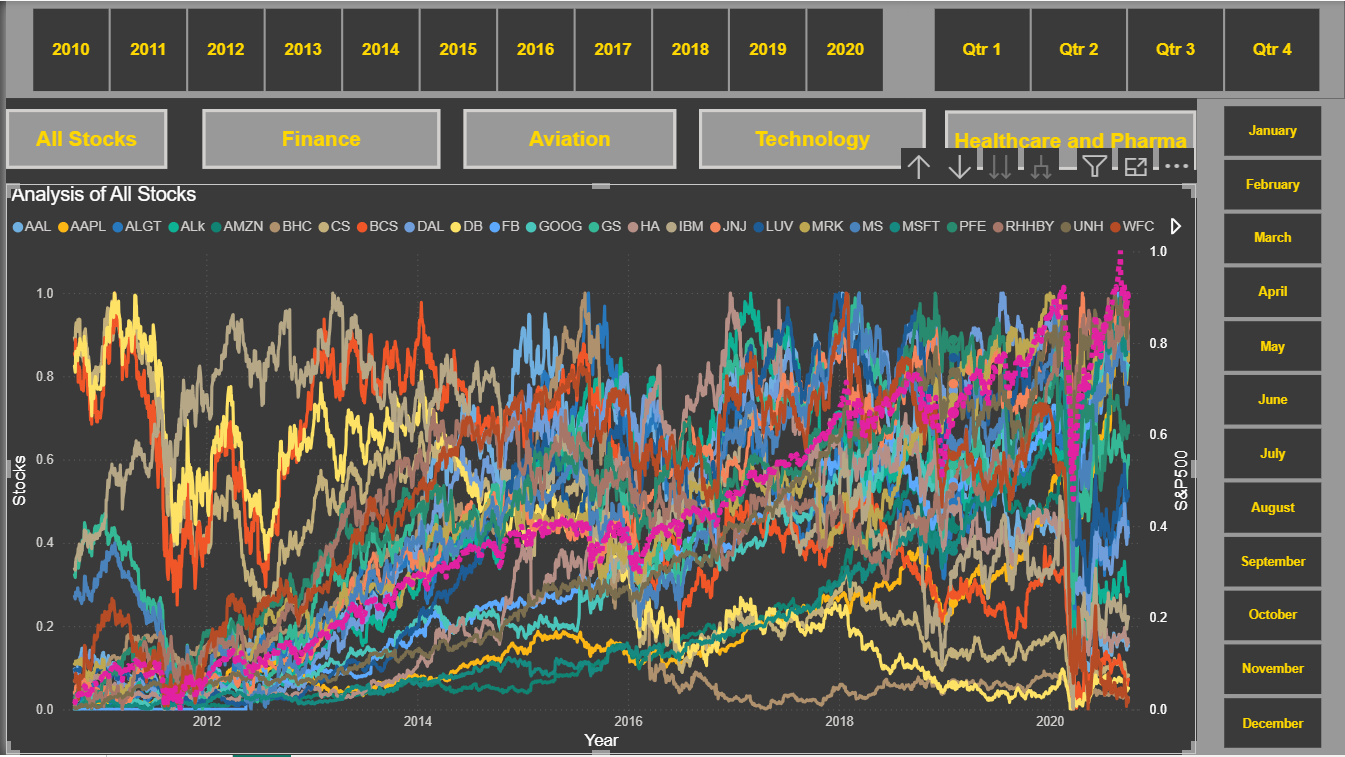

The page's visual inventory and layout, read from the dashboard file:
{"tool":"powerbi","page":{"name":"10 Years","canvas":[1280,720],"ordinal":1},"visuals":[{"type":"lineChart","title":"Analysis of All Stocks","fields":{"Y":["Avg(normalized_data.AAL)","Avg(normalized_data.AAPL)","Avg(normalized_data.ALGT)","Avg(normalized_data.ALk)","Avg(normalized_data.AMZN)","Avg(normalized_data.BHC)","Avg(normalized_data.CS)","Avg(normalized_data.BCS)","Avg(normalized_data.DAL)","Avg(normalized_data.DB)","Avg(normalized_data.FB)","Avg(normalized_data.GOOG)"],"Category":["normalized_data.Date.Variation.Date Hierarchy.Year","normalized_data.Date.Variation.Date Hierarchy.Quarter","normalized_data.Date.Variation.Date Hierarchy.Month","normalized_data.Date.Variation.Date Hierarchy.Day"],"Y2":["Avg(normalized_data.S&P500)"]},"box":[0,175.3,1136.6,544.4],"z":3500},{"type":"slicer","title":"Year Slicer","fields":{"Values":["normalized_data.Date.Variation.Date Hierarchy.Year"]},"box":[0,0,861.5,92.9],"z":4000},{"type":"slicer","title":"Month Slicer","fields":{"Values":["normalized_data.Date.Variation.Date Hierarchy.Month"]},"box":[1137.1,92.9,142.9,627.1],"z":5000},{"type":"slicer","title":"Quarter Slicer","fields":{"Values":["normalized_data.Date.Variation.Date Hierarchy.Quarter"]},"box":[861.5,0,417.6,92.9],"z":6000},{"type":"actionButton","title":"Aviation Button","box":[436.8,103.6,203.2,57.1],"z":7000},{"type":"actionButton","title":"Technology Button","box":[661.2,103.6,216.4,57.1],"z":8000},{"type":"actionButton","title":"Finance Button","box":[187.2,103.6,227.1,57.1],"z":9000},{"type":"actionButton","title":"Healthcare and Pharma Button","box":[896.2,104,240,56.9],"z":10000},{"type":"actionButton","title":"Finance Button","box":[0,103.6,154,57.1],"z":12000}]}

Visuals, with their boxes on the page's 1280x720 design canvas (x1, y1, x2, y2). These are canvas units, not pixel positions in the 1345x757 screenshot, which may show the page scaled, cropped or inside an application window:
"Analysis of All Stocks" lineChart: <region>0, 175, 1137, 720</region>
"Year Slicer" slicer: <region>0, 0, 862, 93</region>
"Month Slicer" slicer: <region>1137, 93, 1280, 720</region>
"Quarter Slicer" slicer: <region>862, 0, 1279, 93</region>
"Aviation Button" actionButton: <region>437, 104, 640, 161</region>
"Technology Button" actionButton: <region>661, 104, 878, 161</region>
"Finance Button" actionButton: <region>187, 104, 414, 161</region>
"Healthcare and Pharma Button" actionButton: <region>896, 104, 1136, 161</region>
"Finance Button" actionButton: <region>0, 104, 154, 161</region>
